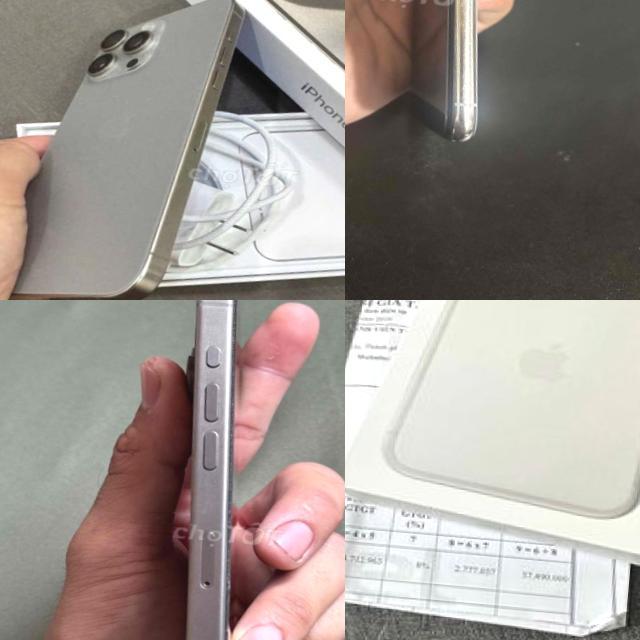gen_15: (107, 300, 317, 640), (24, 0, 260, 300)
gen_17: (378, 300, 640, 542)
gen_x_xs: (388, 0, 509, 144)
